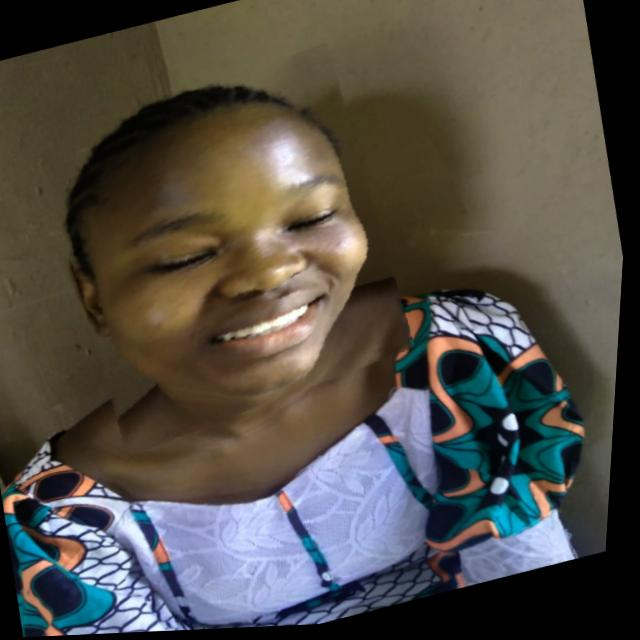happy: (31, 43, 431, 459)
